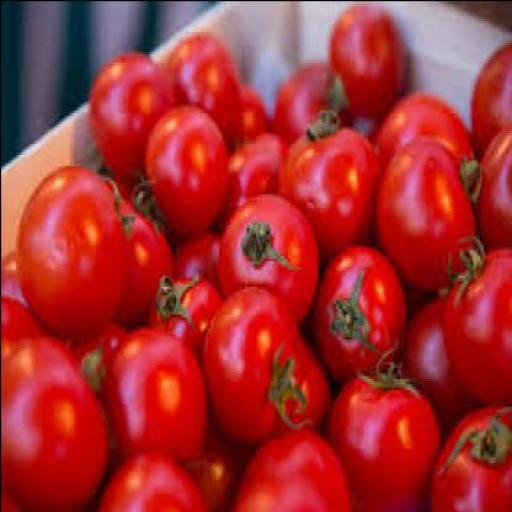biodegradable: (17, 160, 131, 336), (2, 330, 110, 509), (203, 282, 309, 448), (326, 366, 440, 510), (374, 140, 480, 288), (106, 316, 210, 464), (220, 190, 320, 322), (283, 121, 382, 246), (145, 98, 233, 236), (443, 229, 511, 406), (316, 243, 408, 370), (91, 45, 175, 177), (405, 290, 477, 431), (235, 423, 352, 509), (110, 173, 174, 325), (329, 3, 408, 118), (367, 87, 475, 170), (428, 402, 511, 510), (168, 31, 246, 143), (220, 126, 294, 222), (98, 447, 210, 509), (466, 117, 511, 249), (276, 56, 344, 140), (148, 274, 222, 350), (188, 418, 249, 504), (472, 34, 510, 146), (288, 336, 332, 422), (174, 222, 225, 288), (78, 314, 126, 384), (2, 291, 53, 342), (233, 81, 268, 137), (2, 246, 28, 303)
